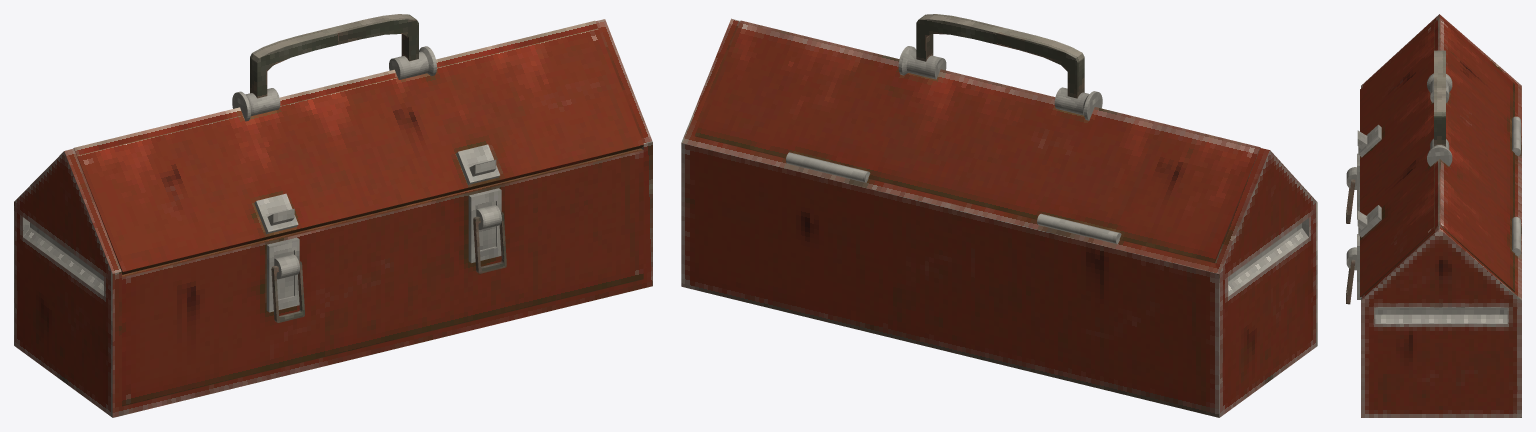
Rendered from toolbox_steel.glb.
3 views of the same model, side by side, from view 1: azimuth 30°, elevation 25°; view 2: azimuth 150°, elevation 25°; view 3: azimuth 270°, elevation 25° (orthographic). The views are drawn at different scales.
Parts seen in each view (by area): view 1: toolbox_steel; view 2: toolbox_steel; view 3: toolbox_steel.
Boxes of the visible parts, x1,y1,x2,y2 form: toolbox_steel: (14,14,652,417); toolbox_steel: (681,14,1317,417); toolbox_steel: (1346,14,1521,417).
Bounding box in the file's own units: 0.55 × 0.2782 × 0.1899.
Materials: 3 (3 with a texture image).
